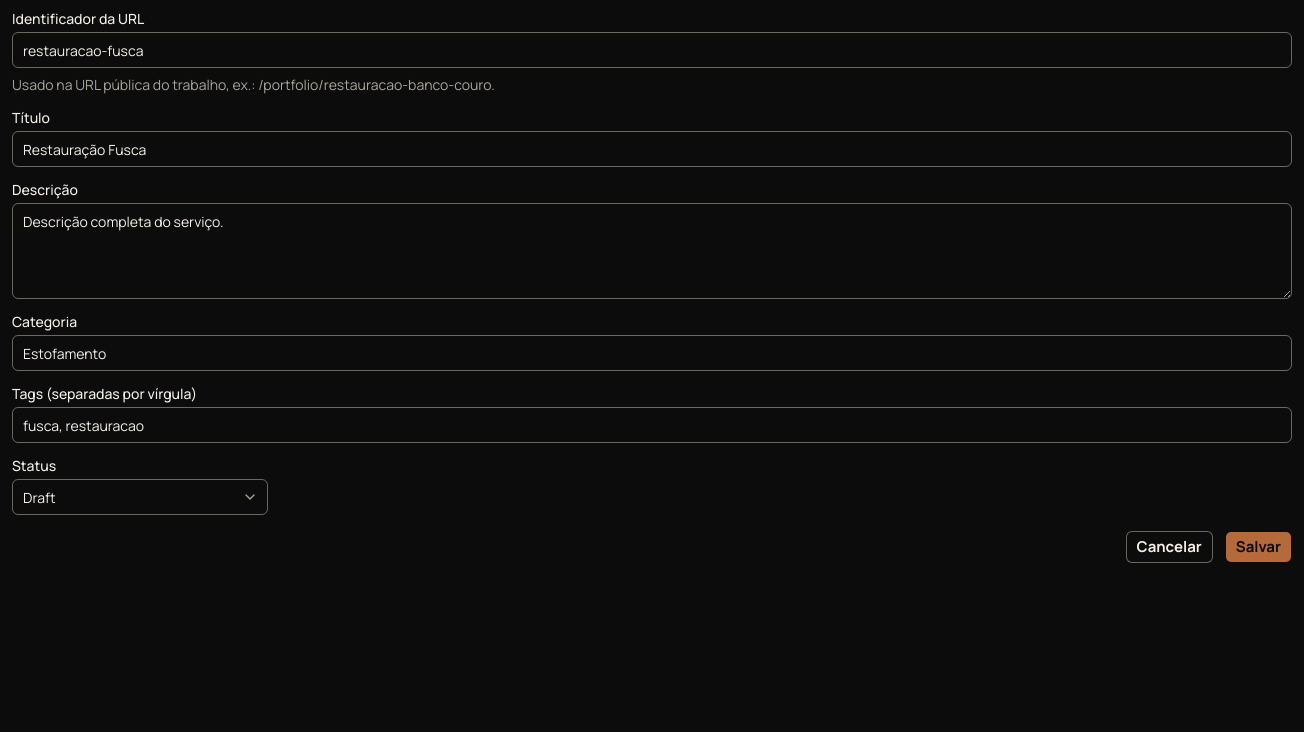
EditWorkForm › submit › exibe a mensagem de erro com role=alert e não navega quando a API retorna 400
Click the button "Salvar" at (1258, 547), box [1225,531,1292,563]
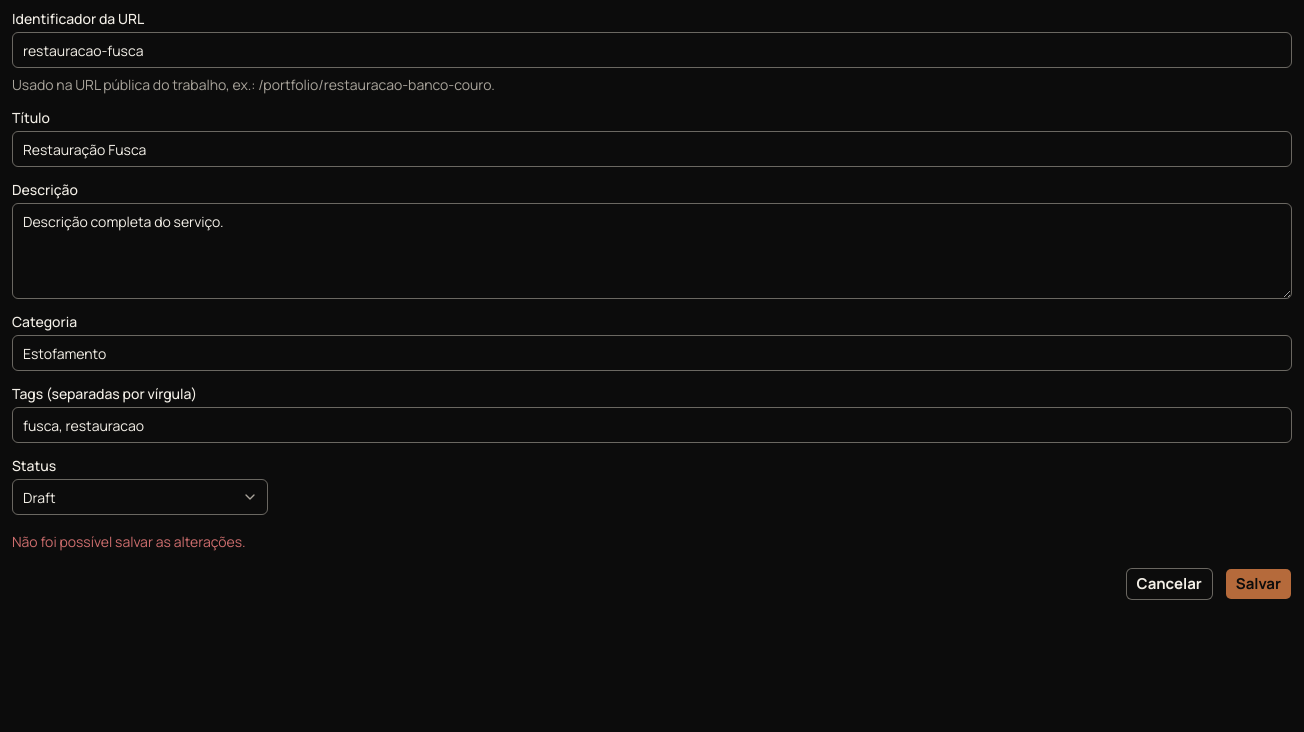
Result: the message reads "Não foi possível salvar as alterações." at [12,532,246,551]
